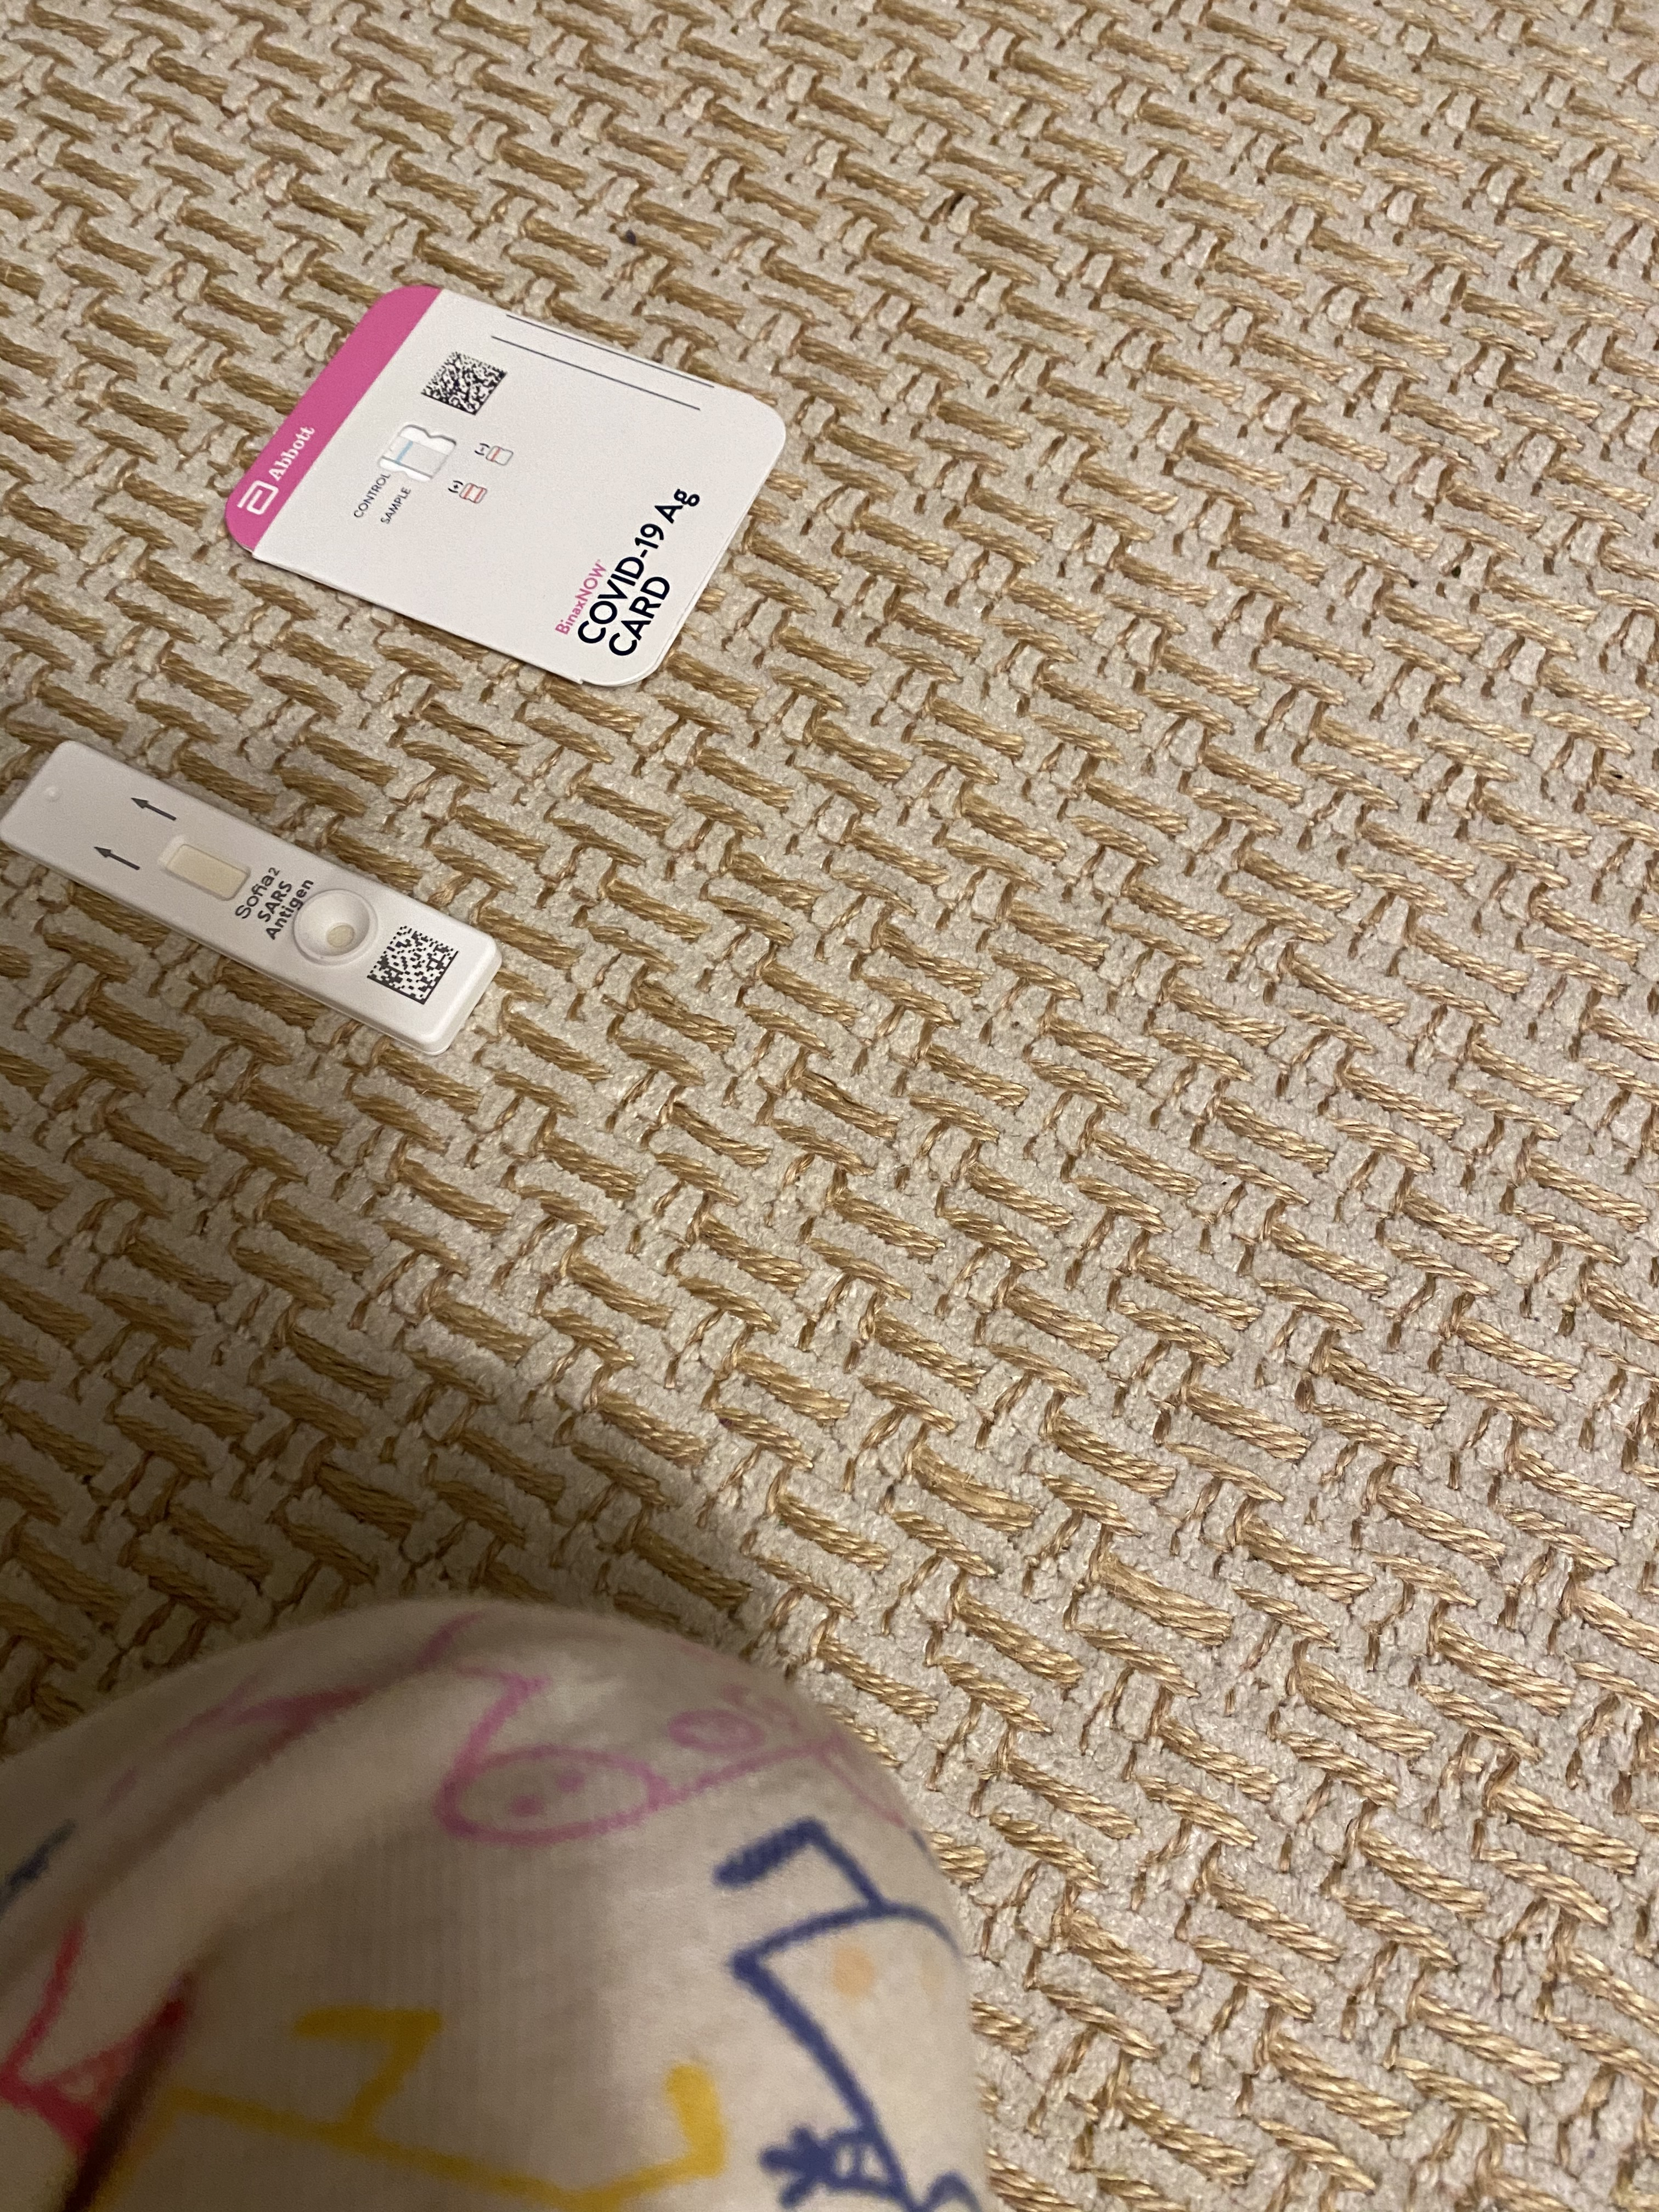binax: (225, 275, 796, 693)
quidel: (3, 730, 507, 1057)
